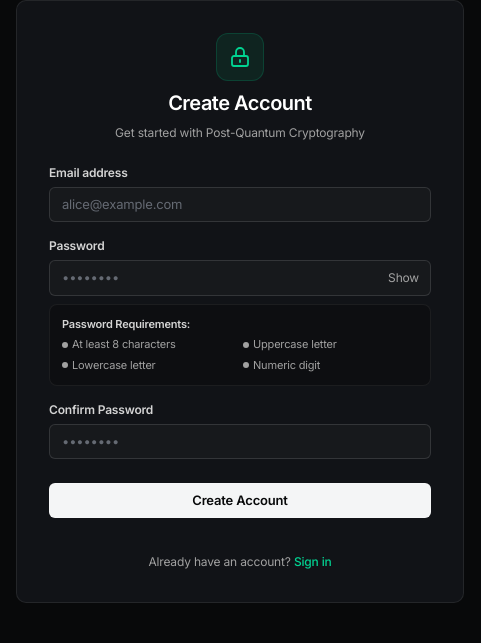
Test: RegisterForm Component › validates passwords match
Type "test@example.com" into the field labelled "Email address" at (240, 205), box x1=49 y1=187 x2=431 y2=222
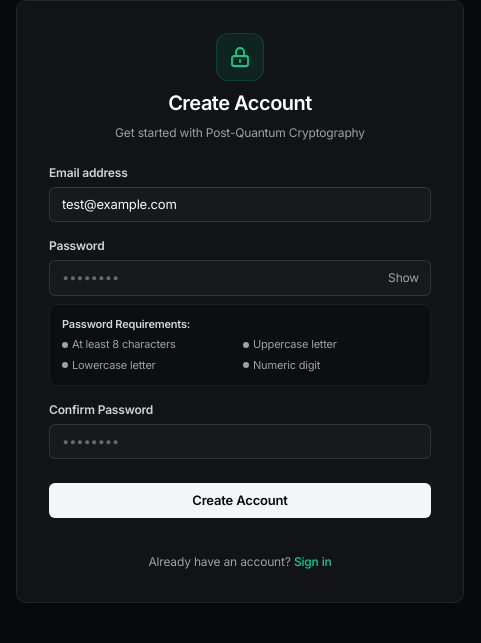
Type "SecurePass123" into the password field labelled "Password" at (240, 278), box x1=49 y1=260 x2=431 y2=296
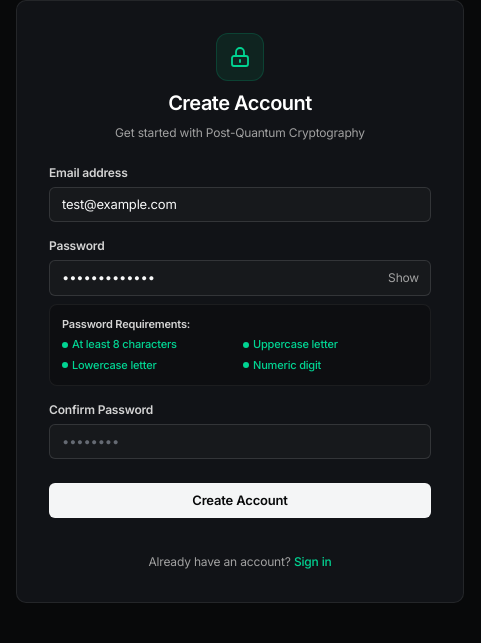
Type "MismatchPass999" into the password field labelled "Confirm Password" at (240, 441), box x1=49 y1=424 x2=431 y2=459
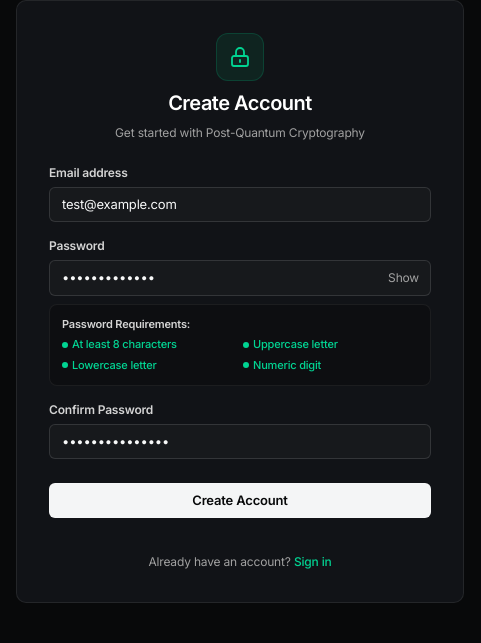
Click the button "Create Account" at (240, 501), box x1=49 y1=483 x2=431 y2=518
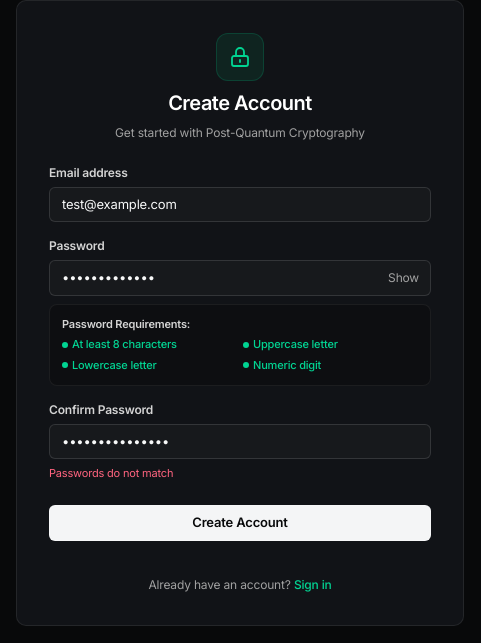
Expected: the text "Passwords do not match" is shown, x1=49 y1=466 x2=173 y2=480
